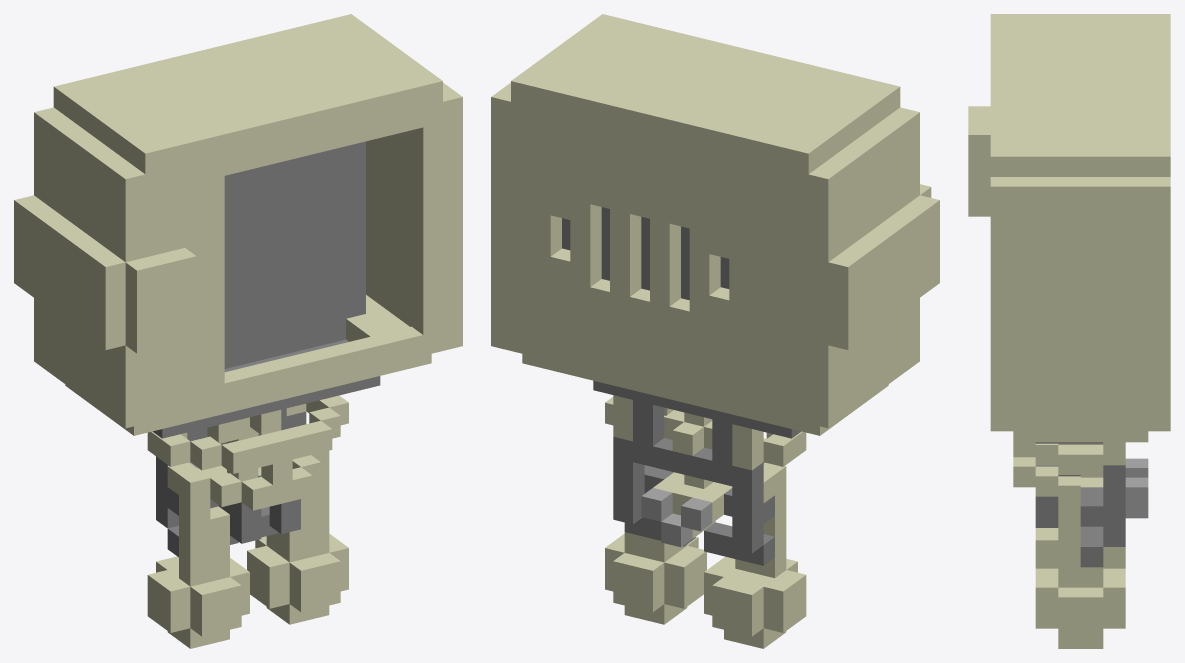
File: body_skeleton.glb
The picture shows the model from 3 angles, left to right: view 1: azimuth 30°, elevation 25°; view 2: azimuth 150°, elevation 25°; view 3: azimuth 270°, elevation 25°; orthographic projection.
Parts seen in each view (by area): view 1: model_0; view 2: model_0; view 3: model_0.
Part boxes in pixels (bbox=[...]): model_0: bbox=[14, 14, 462, 648]; model_0: bbox=[491, 14, 939, 648]; model_0: bbox=[968, 14, 1170, 648].
Size of the model in its own units: 18 by 26 by 9.
